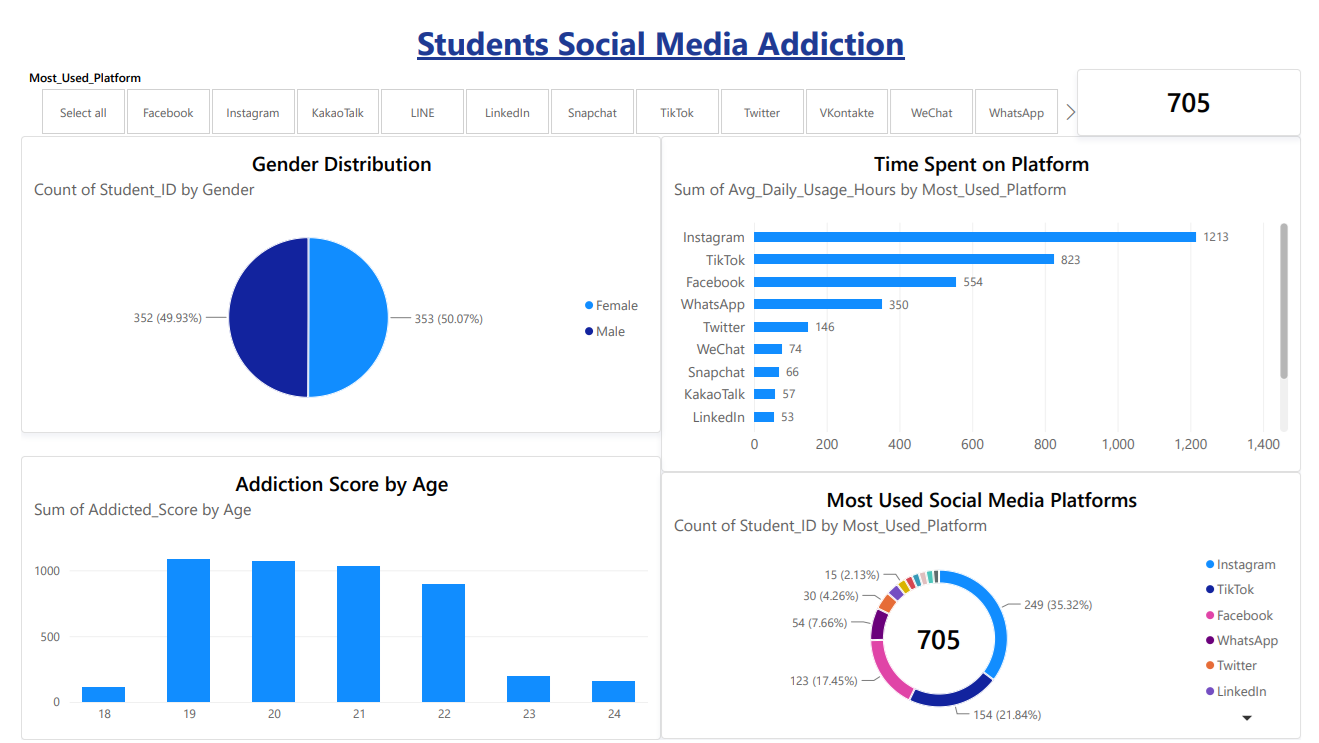

The dashboard page shown, as its layout file describes it:
{"tool":"powerbi","page":{"name":"Page 1","canvas":[1280,720],"ordinal":0},"visuals":[{"type":"textbox","box":[0,0,1280,49.1],"z":0},{"type":"barChart","title":"Time Spent on Platform","fields":{"Category":["Students Social Media Addiction.Most_Used_Platform"],"Y":["Sum(Students Social Media Addiction.Avg_Daily_Usage_Hours)"]},"box":[640,116.5,640,335.7],"z":1000},{"type":"pieChart","title":"Gender Distribution","fields":{"Category":["Students Social Media Addiction.Gender"],"Y":["CountNonNull(Students Social Media Addiction.Student_ID)"]},"box":[0,116.5,640,296.4],"z":2000},{"type":"columnChart","title":"Addiction Score by Age","fields":{"Category":["Students Social Media Addiction.Age"],"Y":["Sum(Students Social Media Addiction.Addicted_Score)"]},"box":[0,436.5,640,283.4],"z":3000},{"type":"slicer","fields":{"Values":["Students Social Media Addiction.Most_Used_Platform"]},"box":[0,49.1,1056.2,67.4],"z":4000},{"type":"card","fields":{"Values":["CountNonNull(Students Social Media Addiction.Student_ID)"]},"box":[1056.2,49.1,223.8,67.4],"z":5001},{"type":"donutChart","title":"Most Used Social Media Platforms","fields":{"Category":["Students Social Media Addiction.Most_Used_Platform"],"Y":["CountNonNull(Students Social Media Addiction.Student_ID)"]},"box":[640,452.2,640,267],"z":5002}]}

Visuals, with their boxes in screenshot pixels (x1, y1, x2, y2), scaled from the page's 1280x720 canvas onto the 1319x743 screenshot:
textbox: crop(0, 0, 1318, 51)
"Time Spent on Platform" barChart: crop(660, 120, 1318, 467)
"Gender Distribution" pieChart: crop(0, 120, 660, 426)
"Addiction Score by Age" columnChart: crop(0, 450, 660, 742)
slicer - Students Social Media Addiction.Most_Used_Platform: crop(0, 51, 1088, 120)
card - CountNonNull(Students Social Media Addiction.Student_ID): crop(1088, 51, 1318, 120)
"Most Used Social Media Platforms" donutChart: crop(660, 467, 1318, 742)
